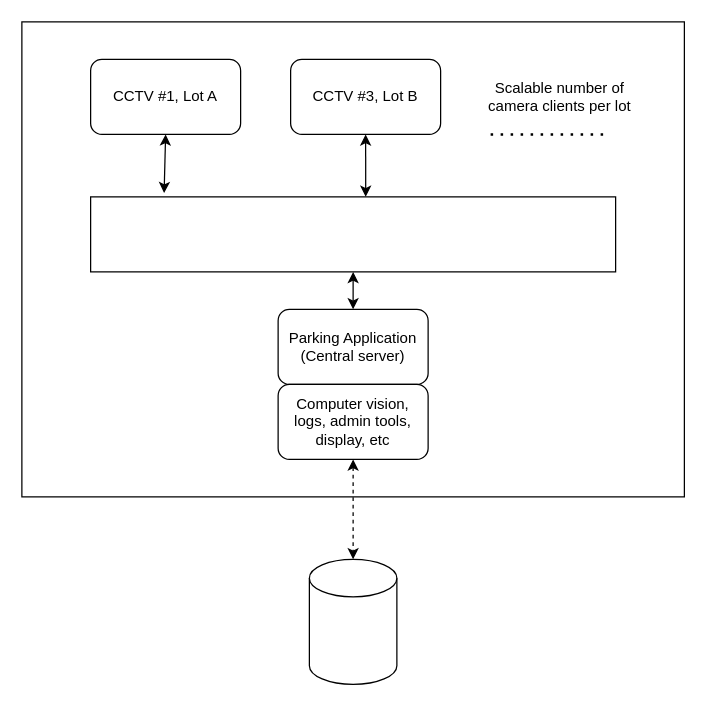
This 706x706 diagram has some shape labels left out. The shapes that lost their labels are listed below. From the top down, each one's centre as x and y in pixels, then its label:
the point at 352,234: Local Network TCP connections
the point at 352,621: University Parking Information
